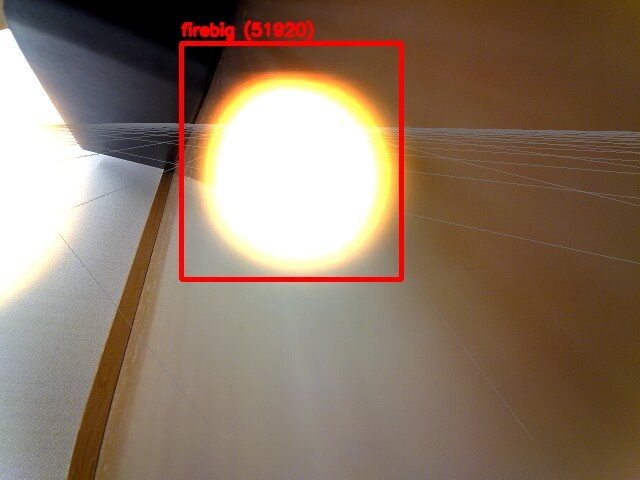firebig: (181, 43, 401, 279)
